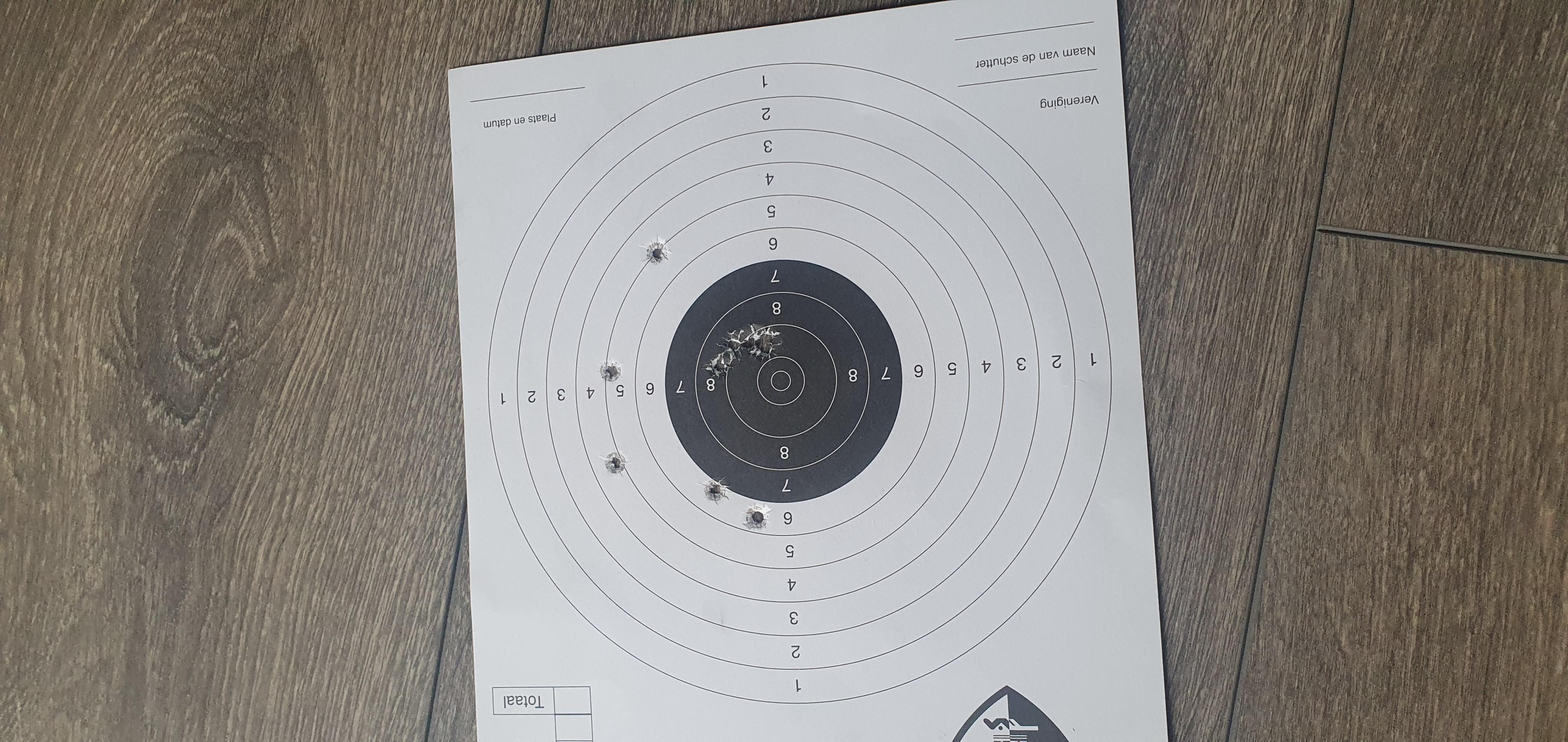hole: (805, 353, 885, 370), (801, 340, 874, 355), (498, 331, 567, 346), (555, 284, 620, 299), (1007, 303, 1072, 318), (445, 351, 511, 365), (768, 332, 824, 345), (754, 283, 813, 295)
